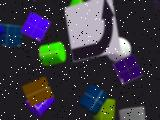Left: (65, 0, 121, 62)
